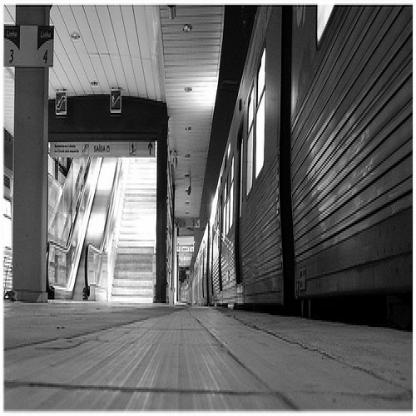train: (180, 3, 414, 310)
